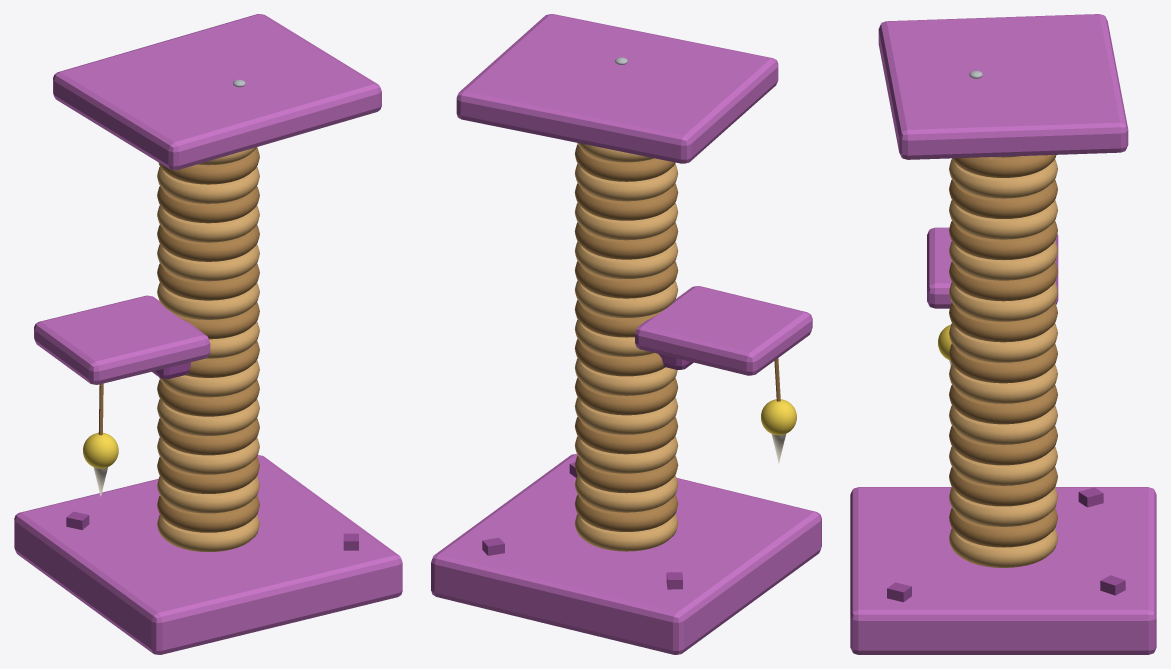
File: zc_scratch_post_ruin.mobile-high.glb
3 renders of one model, left to right at view 1: azimuth 30°, elevation 25°; view 2: azimuth 150°, elevation 25°; view 3: azimuth 270°, elevation 25°, orthographic. The views are drawn at different scales.
Visible parts, largest first — view 1: zc_scratch_post_ruin; view 2: zc_scratch_post_ruin; view 3: zc_scratch_post_ruin.
Part boxes in pixels (x1,y1,x2,y2): zc_scratch_post_ruin: (14,14,402,654); zc_scratch_post_ruin: (431,14,821,654); zc_scratch_post_ruin: (850,14,1156,654).
Size of the model in its own units: 0.6248 by 1.07 by 0.56.
Materials: 1 (1 with a texture image).
